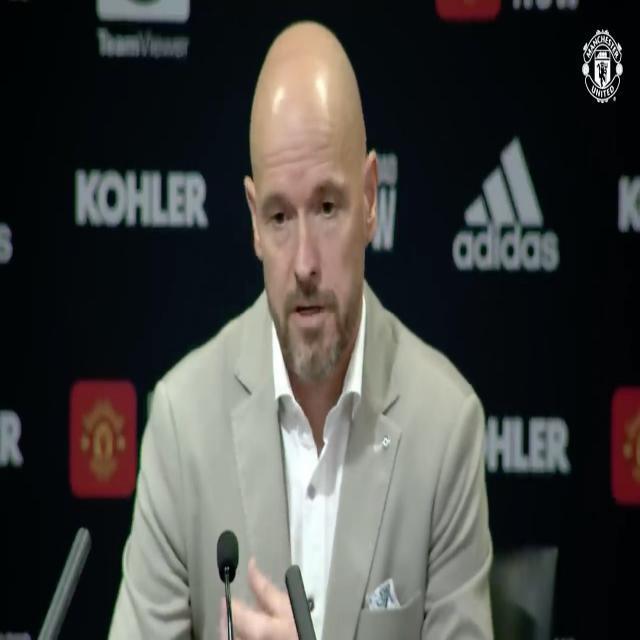Adidas: (452, 134, 558, 272)
Kohler: (74, 170, 208, 230)
TeamViewer: (97, 0, 190, 57)
